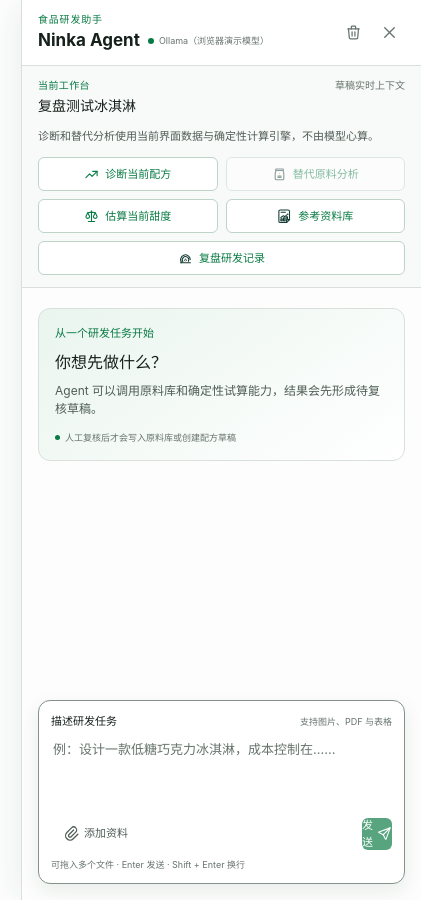
Test case: AgentPanel › reviews the current recipe notes without creating or changing a formula
Step 1. Click the button "复盘研发记录" → {"x": 222, "y": 258}, box [38,241,405,275]
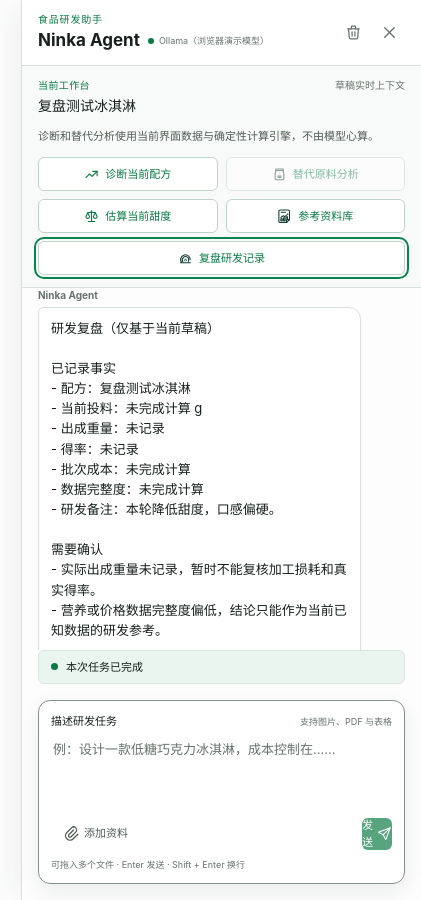
Expected: the text "本轮降低甜度，口感偏硬" is shown, [51,320,347,650]
